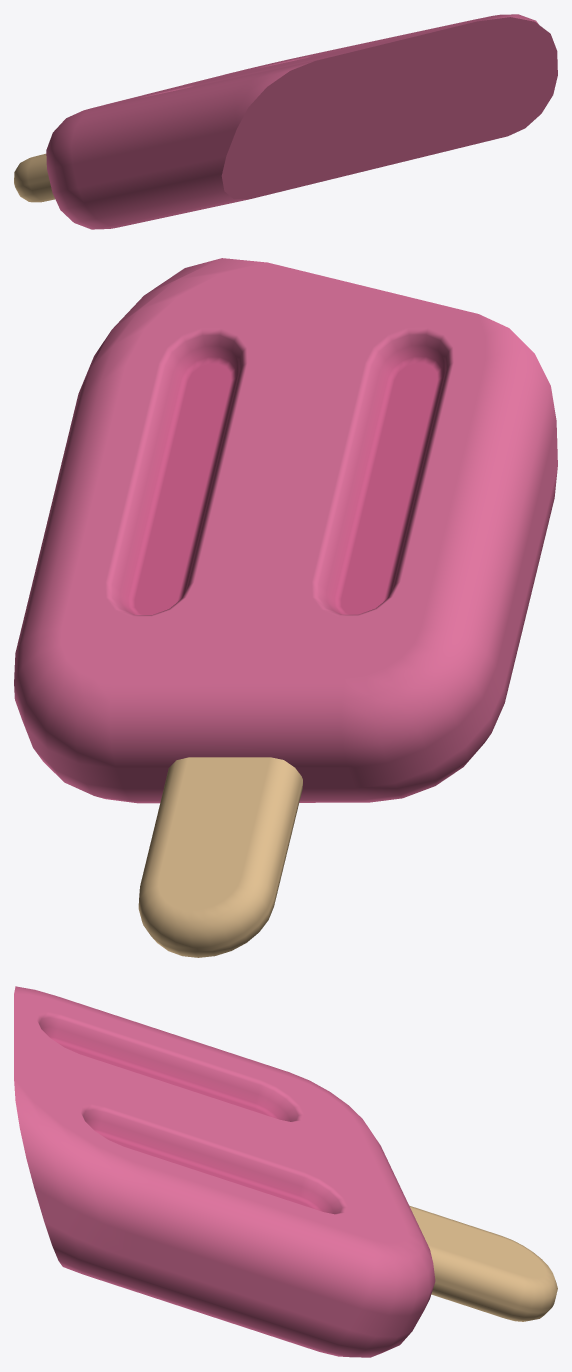
The model's file is Cosmetic_Popsicle.glb.
The picture shows the model from 3 angles, top to bottom: view 1: azimuth 30°, elevation 25°; view 2: azimuth 150°, elevation 25°; view 3: azimuth 270°, elevation 25°; orthographic projection. The views are drawn at different scales.
Parts seen in each view (by area): view 1: Popsicle; view 2: Popsicle; view 3: Popsicle.
Part boxes in pixels (x1,y1,x2,y2): Popsicle: (14, 14, 557, 229); Popsicle: (14, 258, 557, 957); Popsicle: (14, 986, 557, 1357).
Size of the model in its own units: 0.2284 by 0.1721 by 0.257.
